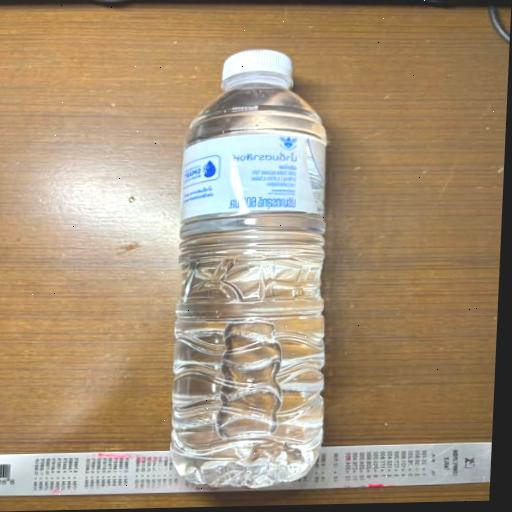bottle: (131, 35, 372, 499)
